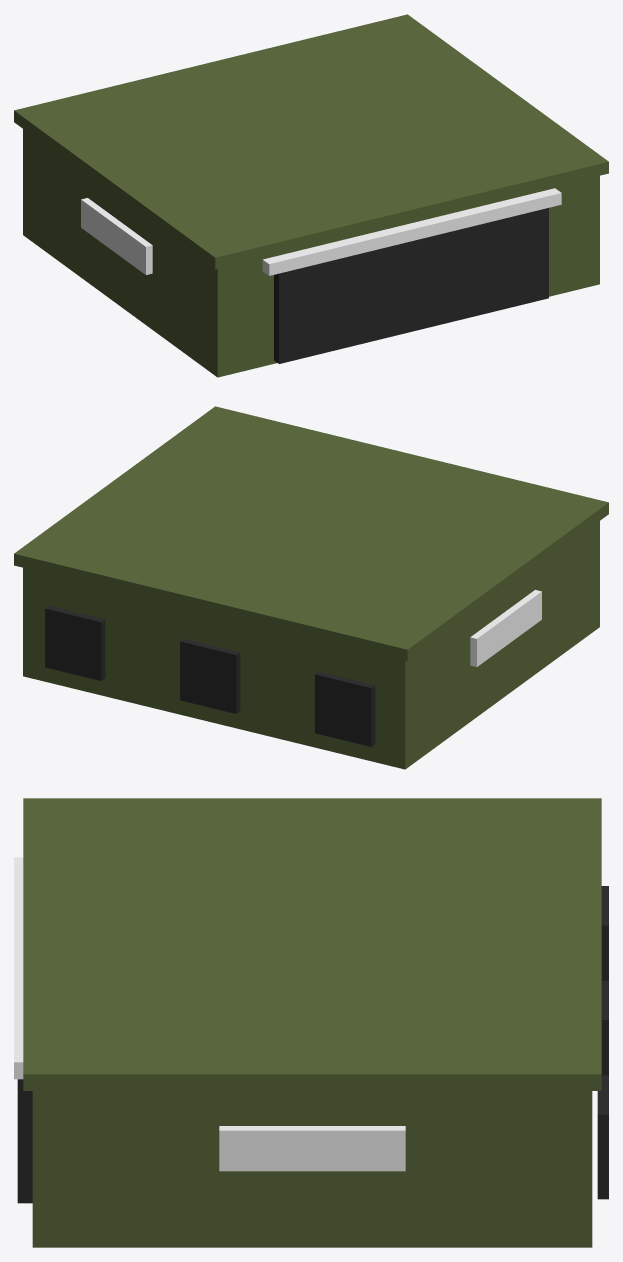
Rendered from ua-vehicle-factory.glb.
3 views of the same model, one above another, from view 1: azimuth 30°, elevation 25°; view 2: azimuth 150°, elevation 25°; view 3: azimuth 270°, elevation 25° (orthographic). The views are drawn at different scales.
Visible parts, largest first — view 1: ua-vehicle-factory; view 2: ua-vehicle-factory; view 3: ua-vehicle-factory.
Boxes of the visible parts, x1,y1,x2,y2 form: ua-vehicle-factory: (14,14,608,377); ua-vehicle-factory: (14,406,608,769); ua-vehicle-factory: (14,798,608,1247).
Bounding box in the file's own units: 3.52 × 1.05 × 3.19.
